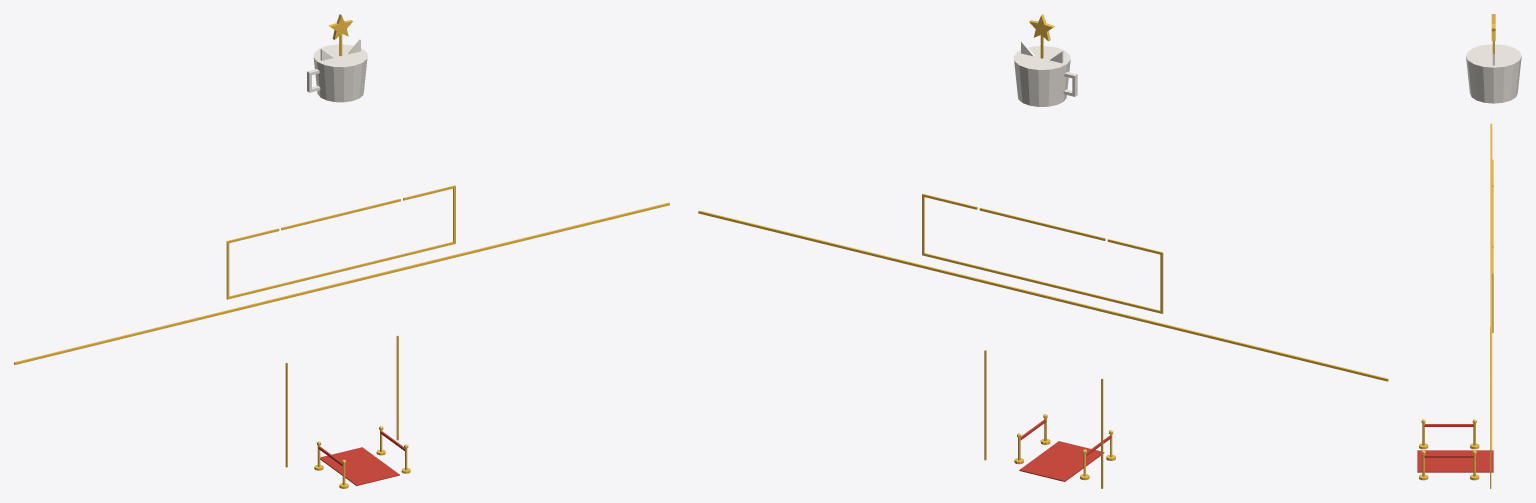
File: CatCafe_Plot_Tier5_48x37.glb
3 renders of one model, left to right at view 1: azimuth 30°, elevation 25°; view 2: azimuth 150°, elevation 25°; view 3: azimuth 270°, elevation 25°, orthographic. The views are drawn at different scales.
Visible parts, largest first — view 1: CatCafe_Plot_Tier5_48x37; view 2: CatCafe_Plot_Tier5_48x37; view 3: CatCafe_Plot_Tier5_48x37.
Boxes of the visible parts, <box> form: CatCafe_Plot_Tier5_48x37: <box>14,14,669,488</box>; CatCafe_Plot_Tier5_48x37: <box>698,14,1388,488</box>; CatCafe_Plot_Tier5_48x37: <box>1417,14,1521,488</box>.
Bounding box in the file's own units: 48.4 × 31.05 × 6.55.
Materials: 1 (1 with a texture image).
